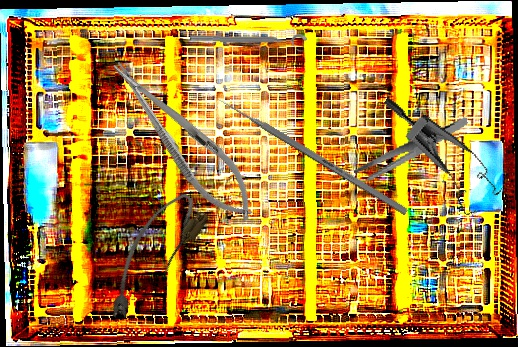Cannula: (89, 185, 214, 328)
Dressing Forceps: (347, 116, 476, 184)
Fixation Ring: (189, 31, 308, 54)
Needle Holder: (97, 46, 270, 234)
Pusher: (208, 90, 409, 216)
Speculum: (355, 96, 517, 224)
